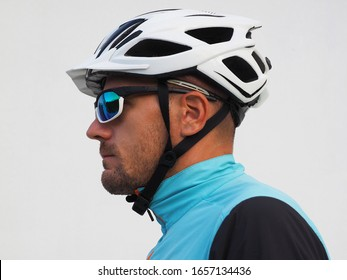helmet: (66, 8, 274, 214)
